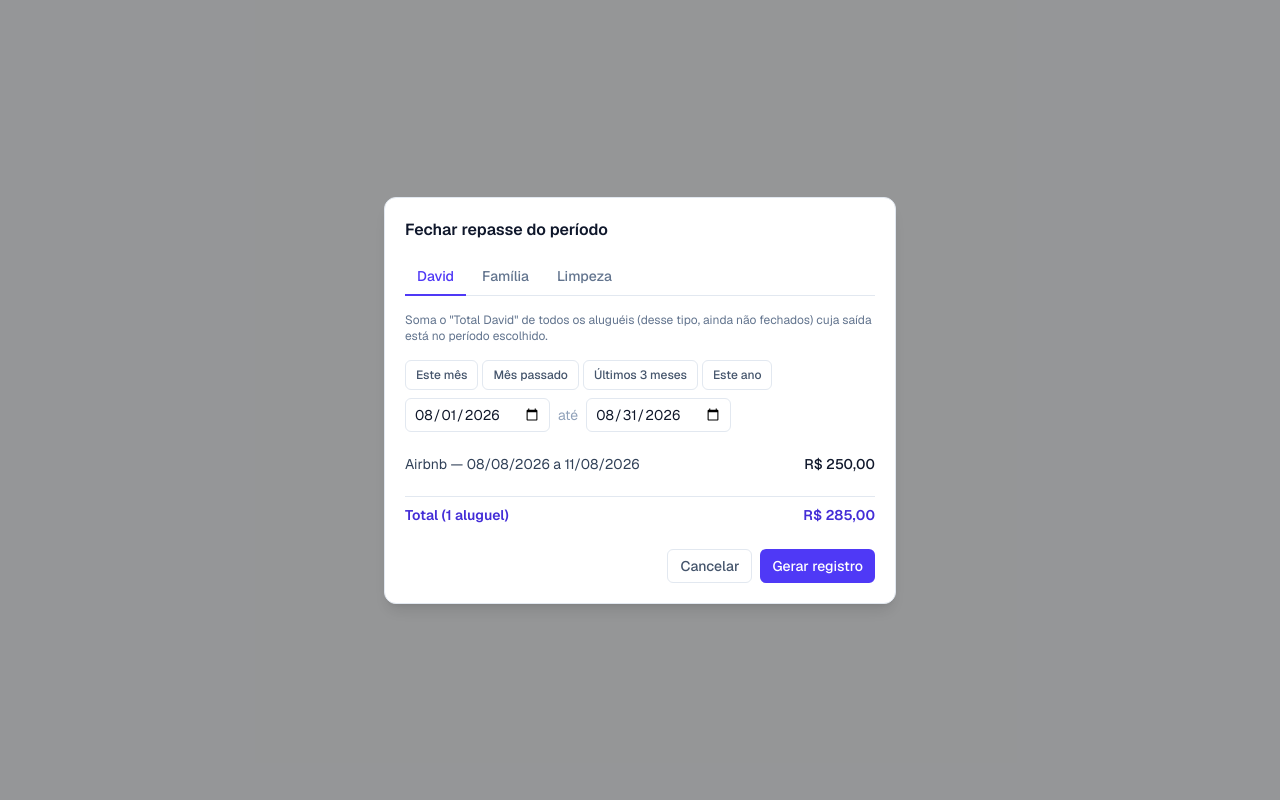
Test: SettlementModal — troca de tipo › no tipo Família o valor por aluguel é o líquido para distribuição
expect the text "Airbnb — 08/08/2026 a 11/08/2026" is shown: met, box 405,454 -> 640,474
Click the button "Família": (506, 276) 470,258 -> 541,296
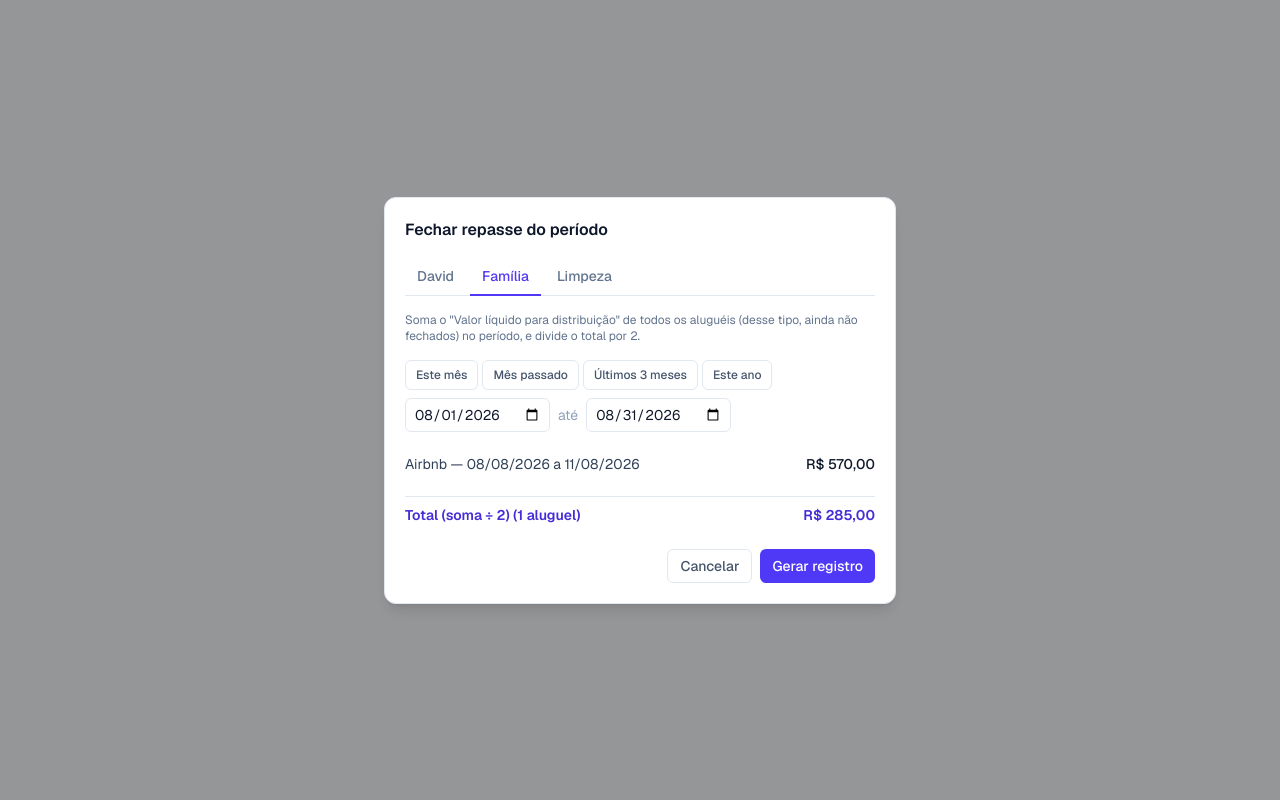
expect the text "R$ 570,00" is shown: met, box 806,454 -> 875,474
